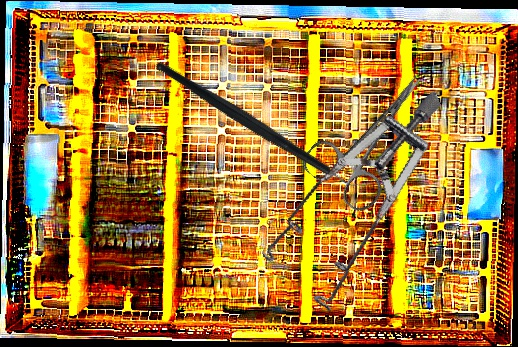Chopper: (153, 3, 375, 247)
Iris Scissors: (297, 53, 454, 217)
Speculum: (230, 91, 493, 326)
